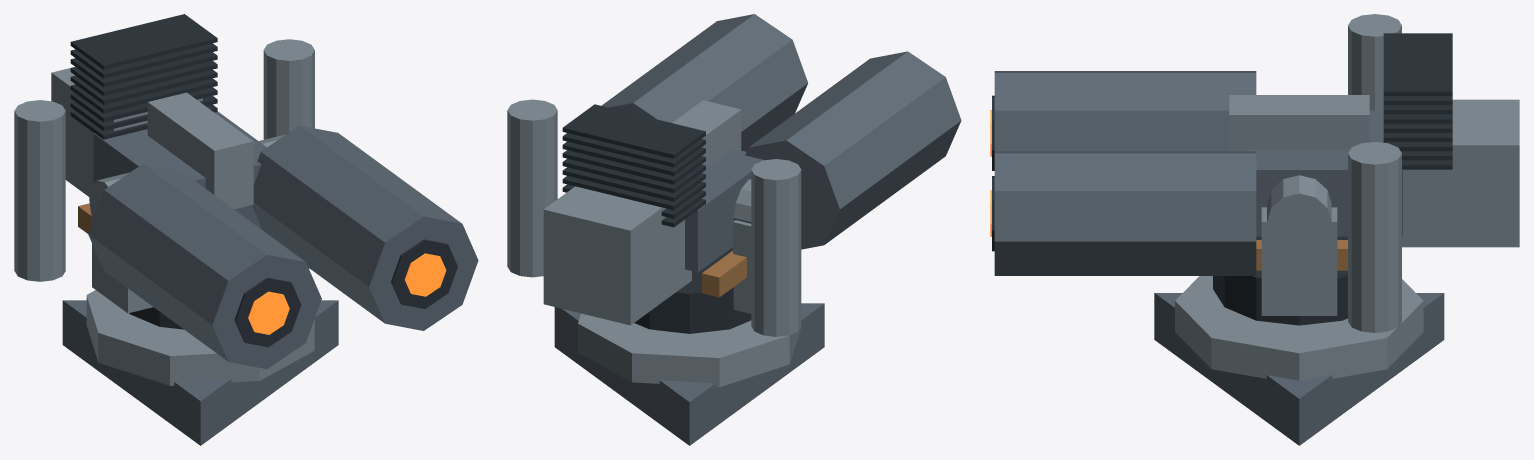
File: kiln_t3_d0.meshopt.glb
The picture shows the model from 3 angles, left to right: view 1: azimuth 30°, elevation 25°; view 2: azimuth 150°, elevation 25°; view 3: azimuth 270°, elevation 25°; orthographic projection. The views are drawn at different scales.
Visible parts, largest first — view 1: RECOIL_ARMOR_GEOMETRY, BASE_ARMOR_GEOMETRY, RECOIL_SIGNAL_GEOMETRY, YAW_ARMOR_GEOMETRY; view 2: RECOIL_ARMOR_GEOMETRY, BASE_ARMOR_GEOMETRY, YAW_ARMOR_GEOMETRY; view 3: RECOIL_ARMOR_GEOMETRY, BASE_ARMOR_GEOMETRY, YAW_ARMOR_GEOMETRY.
Boxes of the visible parts, x1,y1,x2,y2 form: RECOIL_ARMOR_GEOMETRY: [14, 14, 478, 368]; BASE_ARMOR_GEOMETRY: [62, 290, 338, 445]; RECOIL_SIGNAL_GEOMETRY: [248, 253, 446, 334]; YAW_ARMOR_GEOMETRY: [92, 217, 309, 329]; RECOIL_ARMOR_GEOMETRY: [507, 14, 961, 336]; BASE_ARMOR_GEOMETRY: [554, 303, 824, 445]; YAW_ARMOR_GEOMETRY: [634, 220, 751, 333]; RECOIL_ARMOR_GEOMETRY: [992, 14, 1519, 332]; BASE_ARMOR_GEOMETRY: [1154, 276, 1444, 445]; YAW_ARMOR_GEOMETRY: [1213, 207, 1347, 325].
Bounding box in the file's own units: 1.65 × 1.6 × 2.45.
